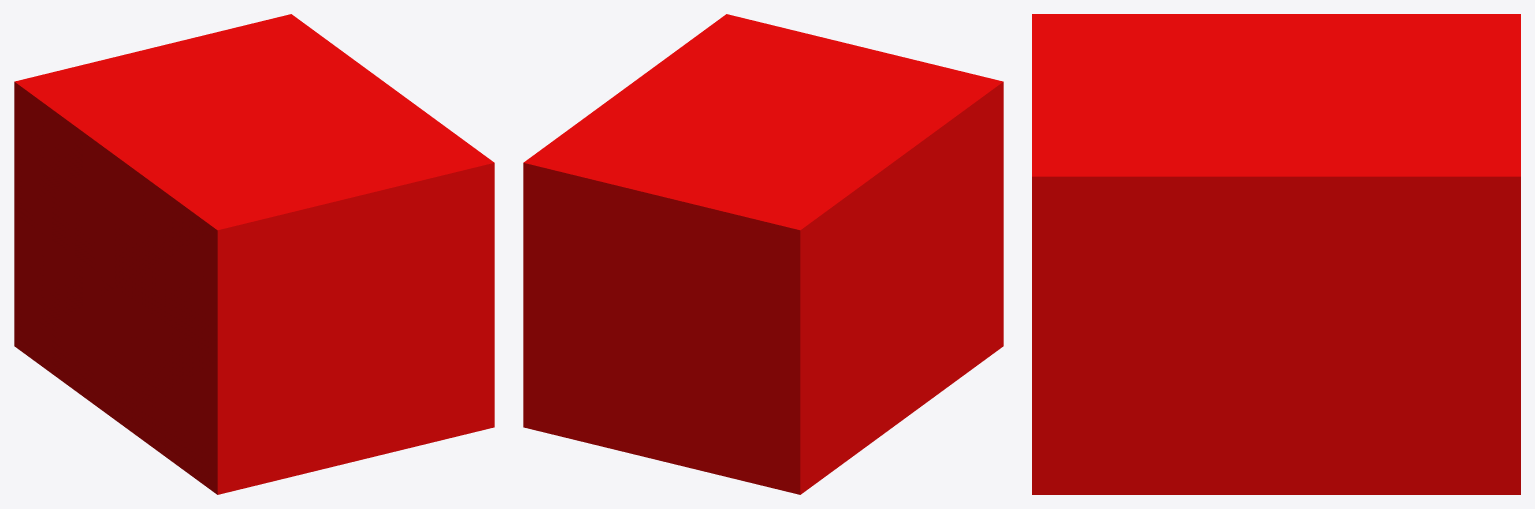
The model's file is arm_r_thumbprox_col.dae.
The picture shows the model from 3 angles, left to right: view 1: azimuth 30°, elevation 25°; view 2: azimuth 150°, elevation 25°; view 3: azimuth 270°, elevation 25°; orthographic projection. The views are drawn at different scales.
Parts seen in each view (by area): view 1: node0; view 2: node0; view 3: node0.
Part boxes in pixels (x1,y1,x2,y2): node0: (14,14,494,494); node0: (523,14,1003,494); node0: (1032,14,1520,494).
Bounding box in the file's own units: 0.0217 × 0.0198 × 0.0276.
